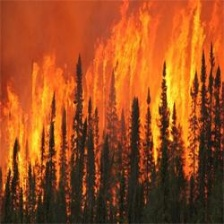fire: (4, 7, 221, 208)
